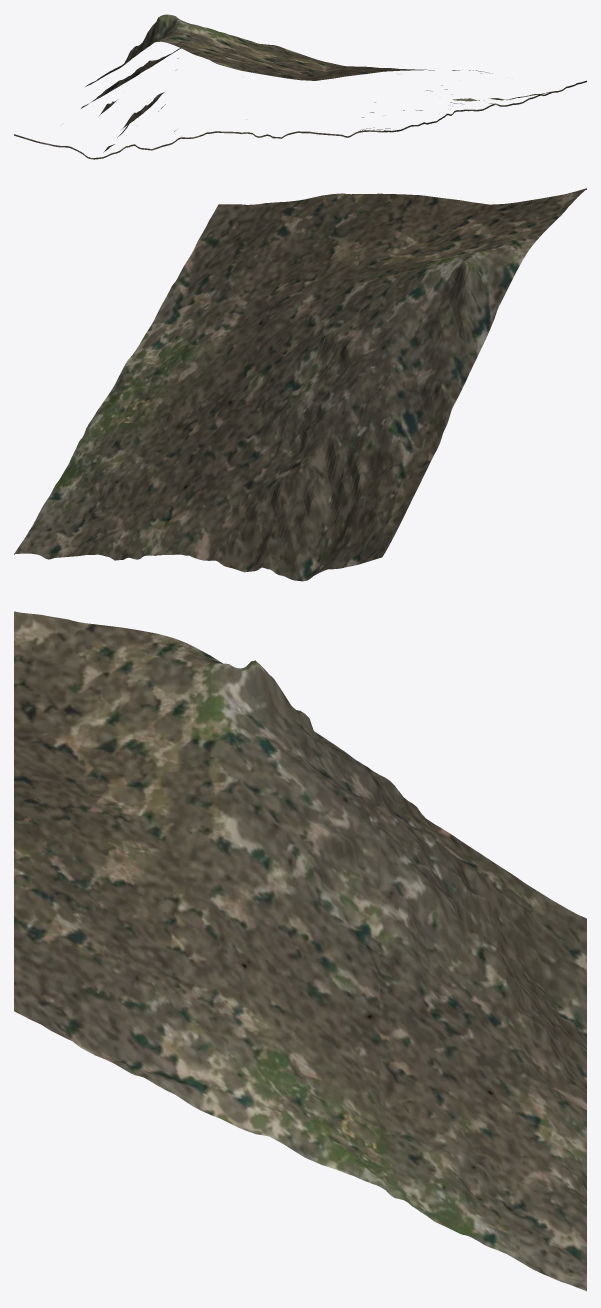
3 renders of one model, top to bottom at view 1: azimuth 30°, elevation 25°; view 2: azimuth 150°, elevation 25°; view 3: azimuth 270°, elevation 25°, orthographic. The views are drawn at different scales.
Size of the model in its own units: 250 by 200 by 241.
Materials: 1 (1 with a texture image).
